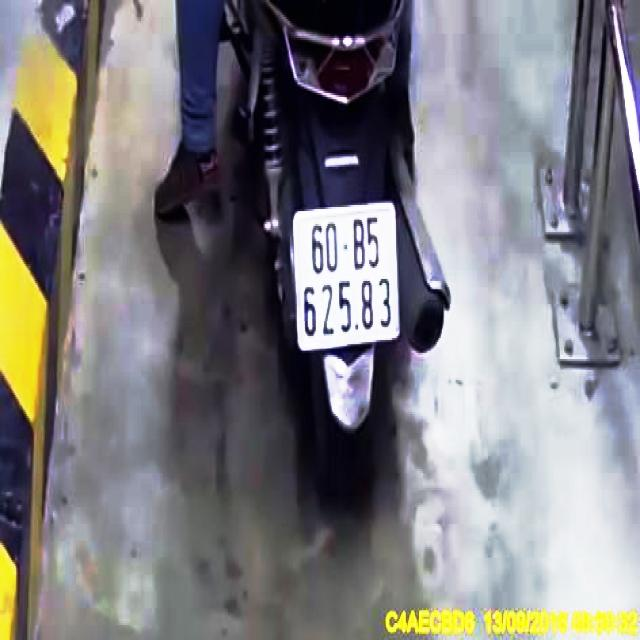license_plate: (296, 202, 401, 352)
